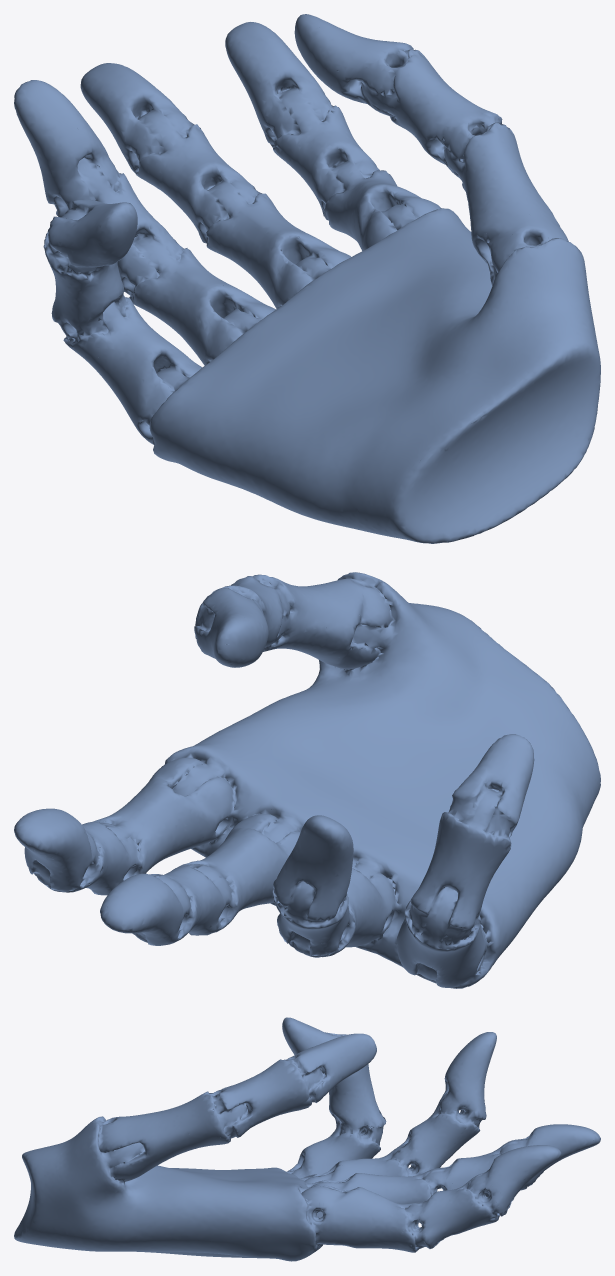
File: hand.glb
3 renders of one model, top to bottom at view 1: azimuth 30°, elevation 25°; view 2: azimuth 150°, elevation 25°; view 3: azimuth 270°, elevation 25°, orthographic. The views are drawn at different scales.
Visible parts, largest first — view 1: Hand; view 2: Hand; view 3: Hand.
Part boxes in pixels (left/top/right/bottom): Hand: left=14, top=14, right=600, bottom=543; Hand: left=14, top=572, right=600, bottom=988; Hand: left=14, top=1017, right=600, bottom=1261.
Size of the model in its own units: 1.97 by 1.75 by 3.6.
